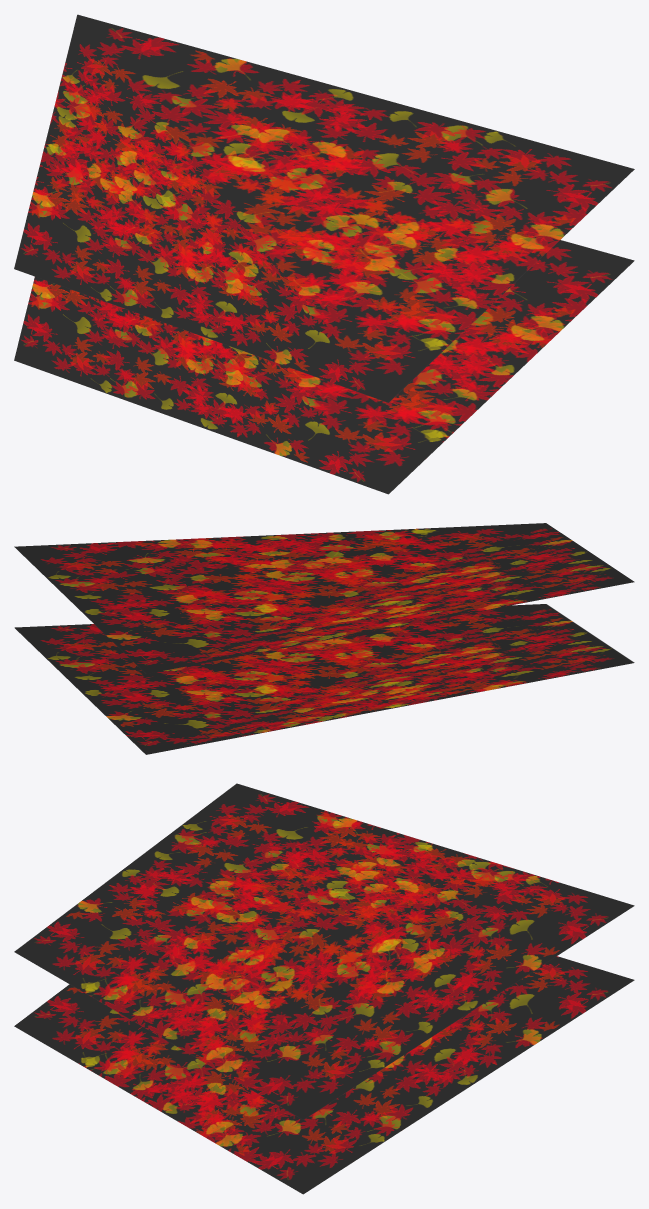
File: CourseAki_CurveFloor_3_18.fbx
3 renders of one model, top to bottom at view 1: azimuth 30°, elevation 25°; view 2: azimuth 150°, elevation 25°; view 3: azimuth 270°, elevation 25°, orthographic. The views are drawn at different scales.
Parts seen in each view (by area): view 1: polySurface467; view 2: polySurface467; view 3: polySurface467.
Part boxes in pixels (bbox=[...]): polySurface467: bbox=[14, 14, 634, 494]; polySurface467: bbox=[14, 523, 634, 754]; polySurface467: bbox=[14, 783, 634, 1194].
Bounding box in the file's own units: 7.57 × 2 × 7.57.
Materials: 1 (1 with a texture image).
